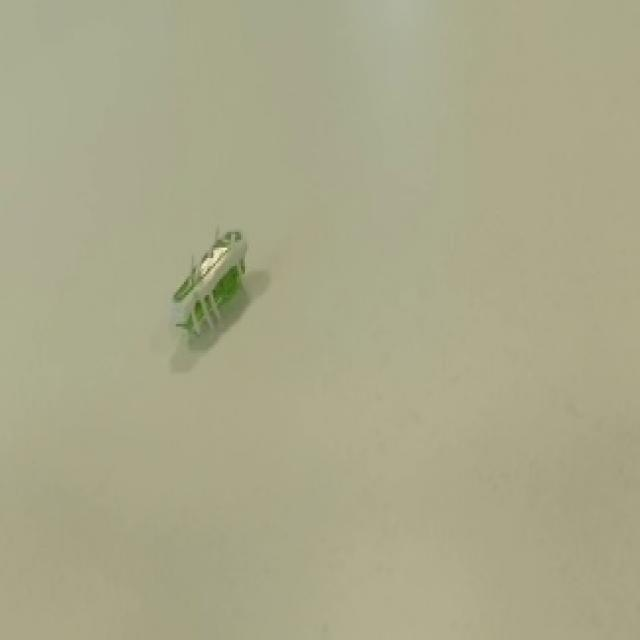4_NanoBug_Blanco: (154, 204, 295, 380)
